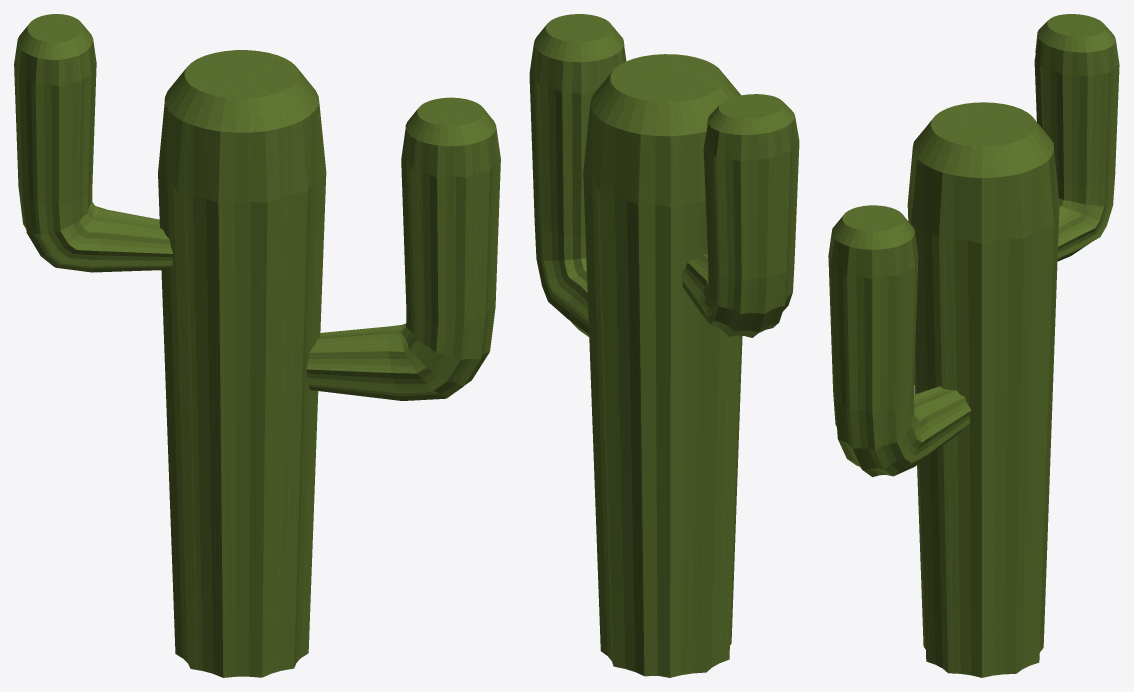
The model's file is cactus.fbx.
3 views of the same model, side by side, from view 1: azimuth 30°, elevation 25°; view 2: azimuth 150°, elevation 25°; view 3: azimuth 270°, elevation 25° (orthographic). The views are drawn at different scales.
Parts seen in each view (by area): view 1: cactus2; view 2: cactus2; view 3: cactus2.
Part boxes in pixels (left/top/right/bottom): cactus2: left=14, top=14, right=500, bottom=677; cactus2: left=529, top=14, right=799, bottom=677; cactus2: left=828, top=14, right=1119, bottom=677.
Bounding box in the file's own units: 606 × 806 × 1301.
Materials: 1 (1 with a texture image).
